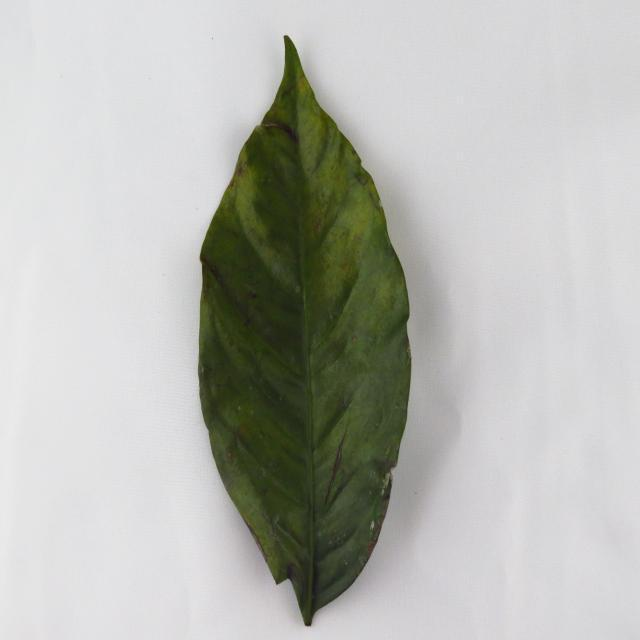DeficienciaNutricional-Magnesio: (199, 37, 411, 625)
